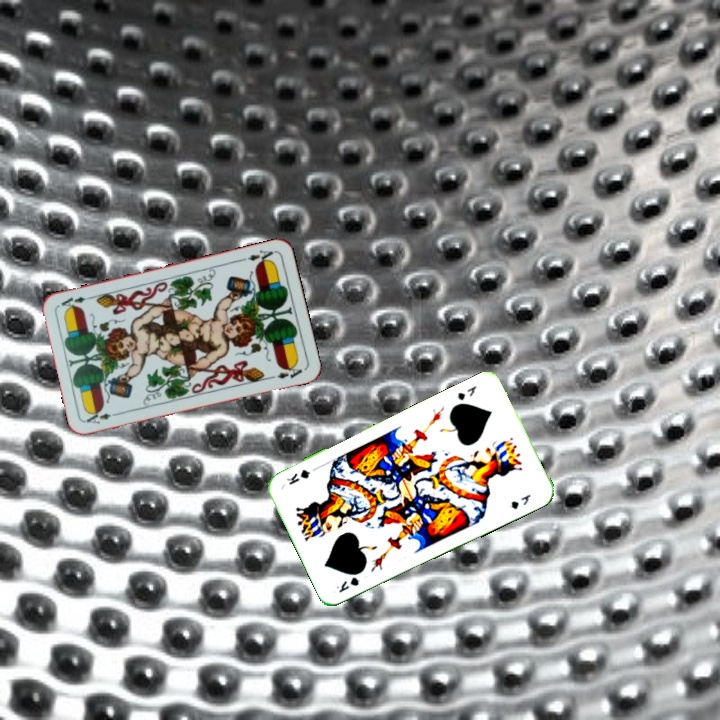EA: (237, 246, 277, 267), (82, 409, 122, 427)
GK: (332, 573, 361, 595), (453, 381, 479, 403)
